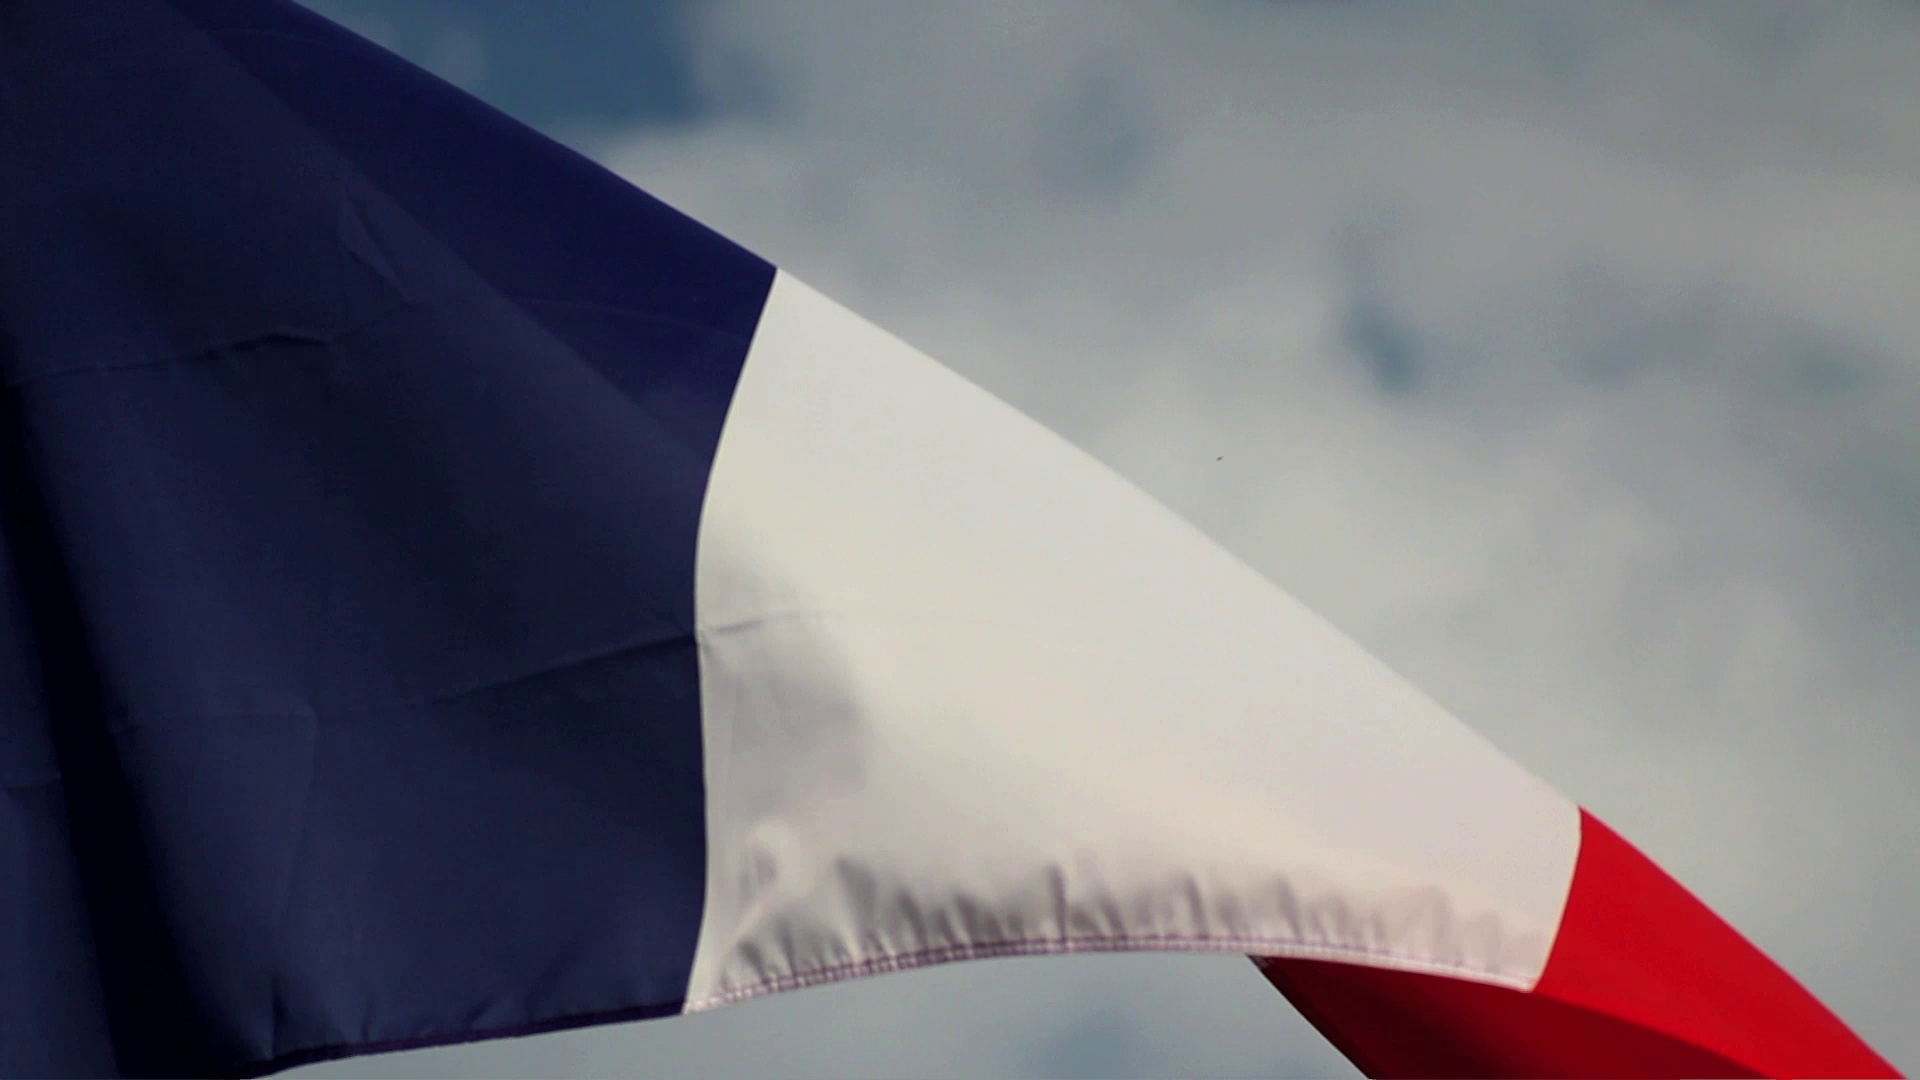French Flag: (1, 1, 1898, 1080)
